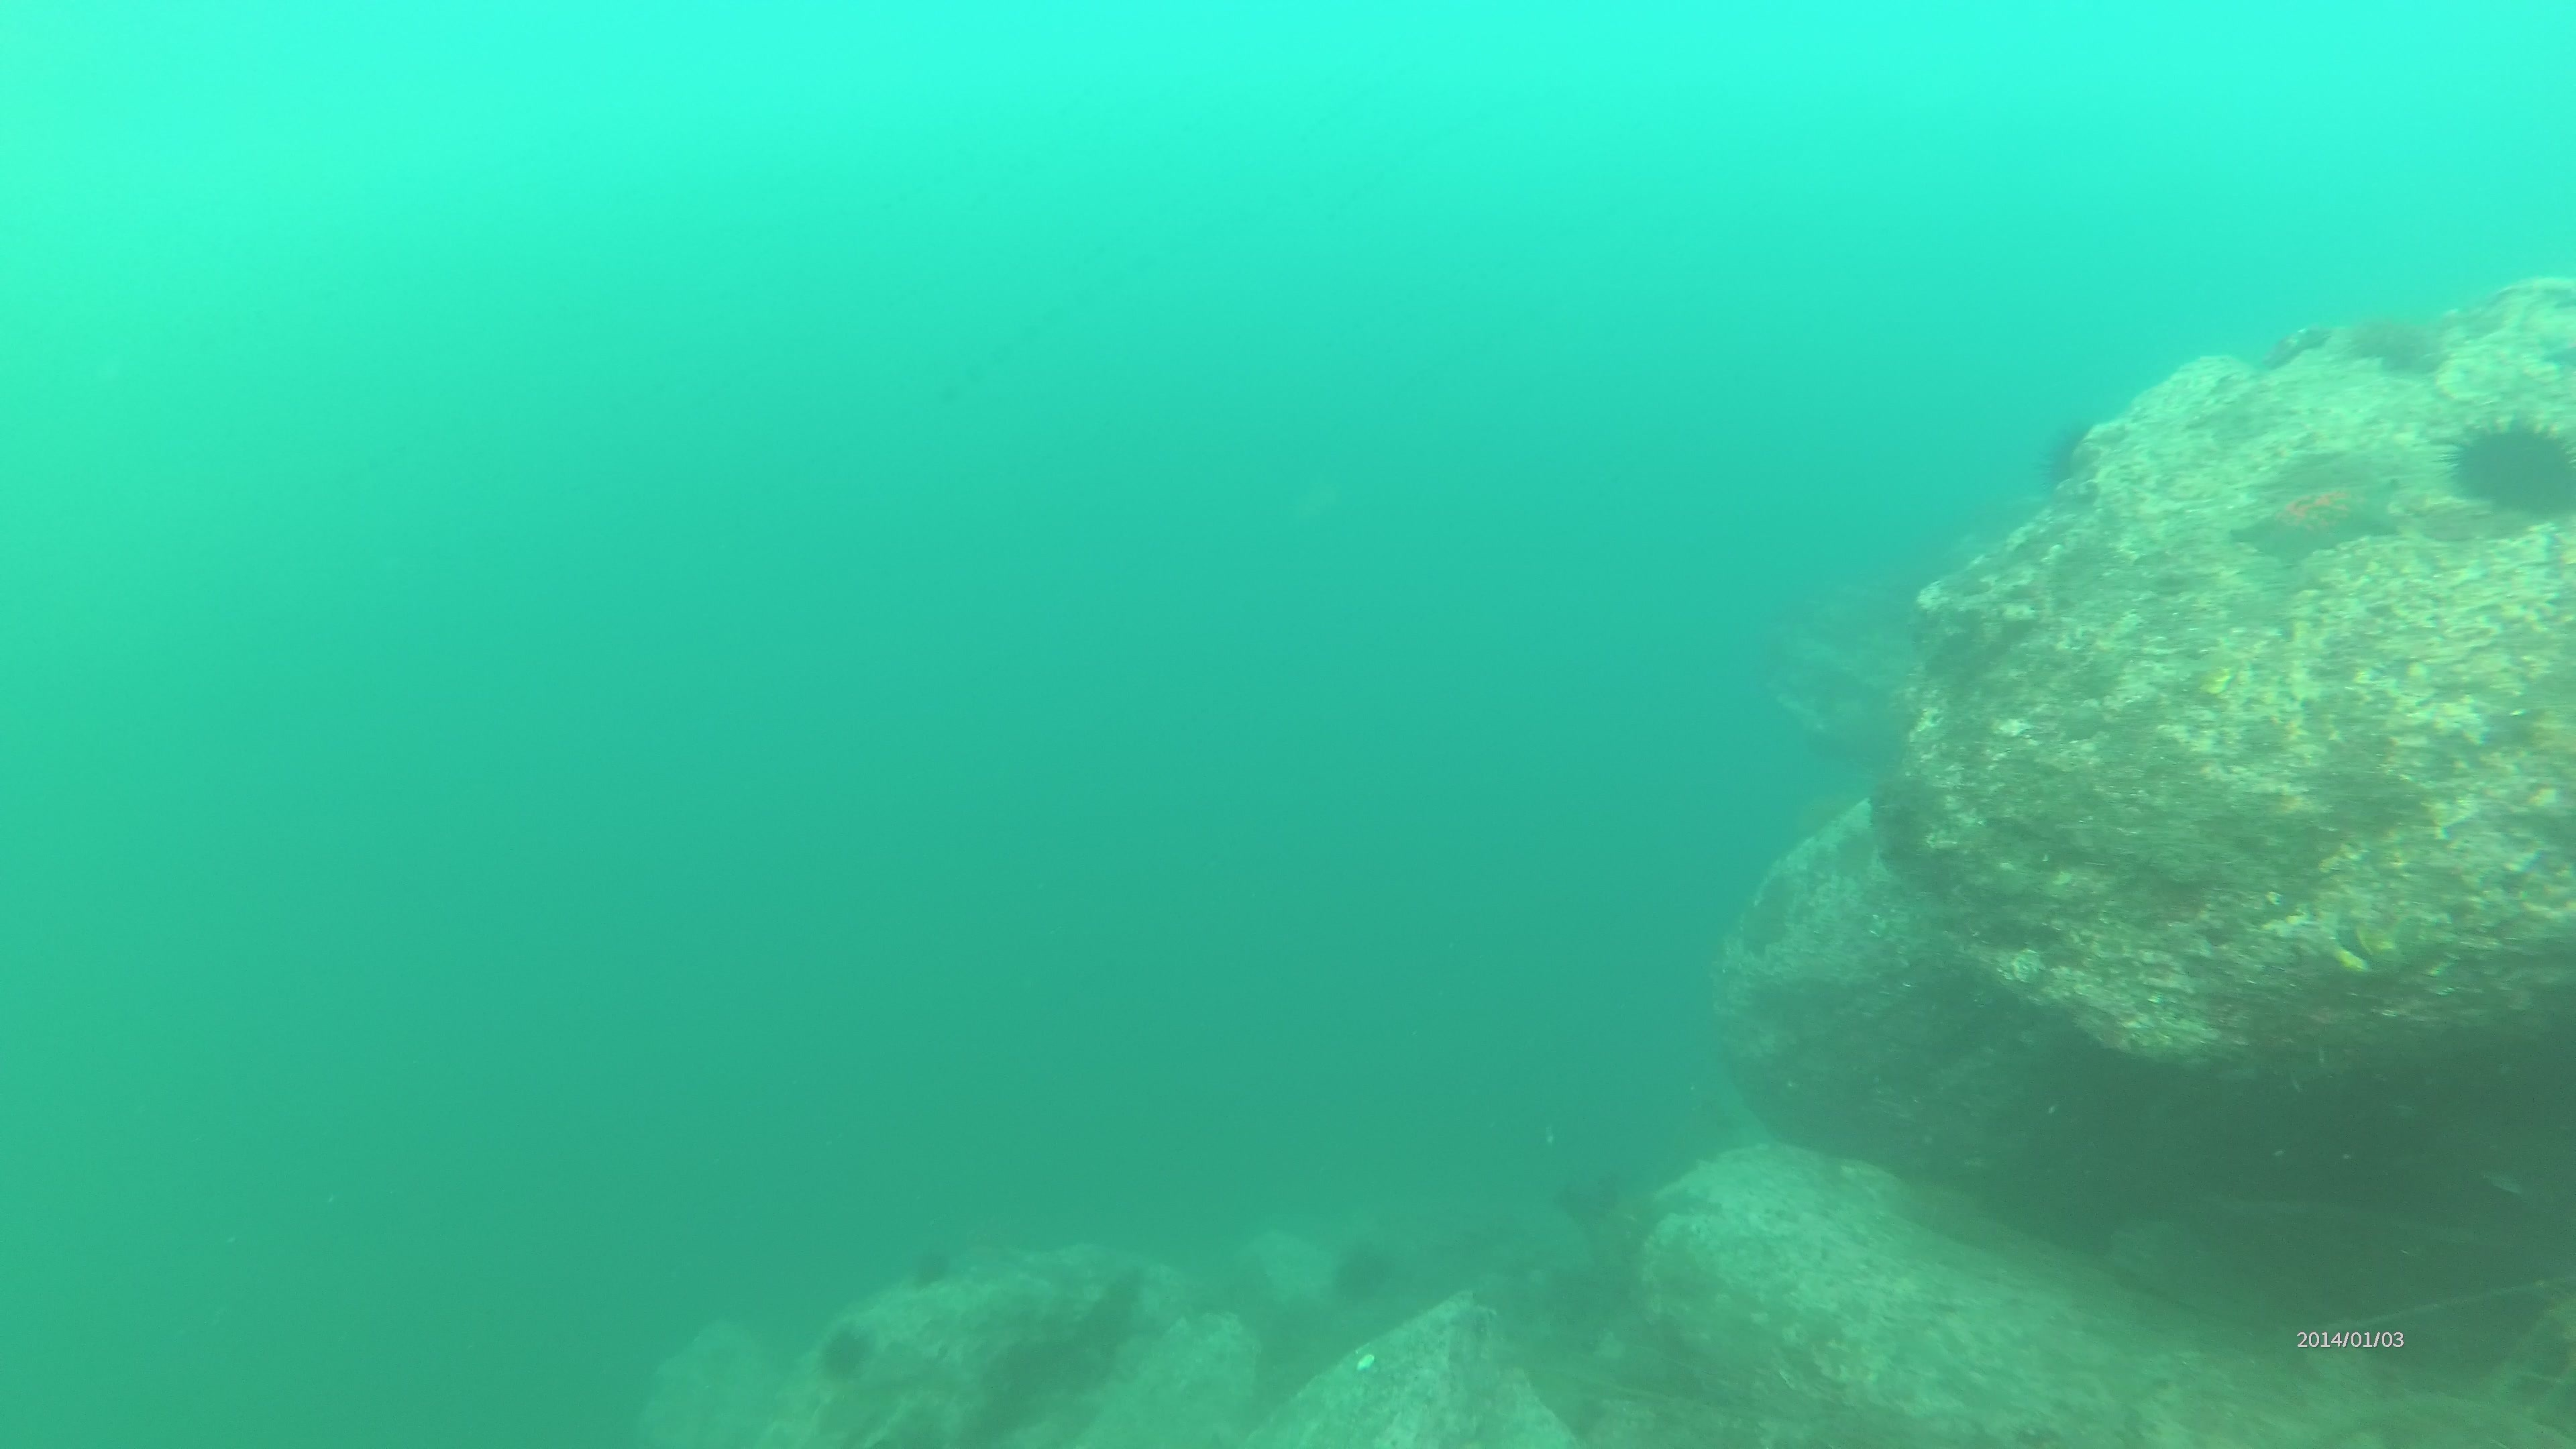echinus: (2440, 412, 2576, 513), (2335, 297, 2461, 384), (2028, 414, 2111, 490), (1336, 1247, 1394, 1299), (911, 1233, 970, 1284), (819, 1330, 874, 1373)
starfish: (2240, 465, 2404, 579)
